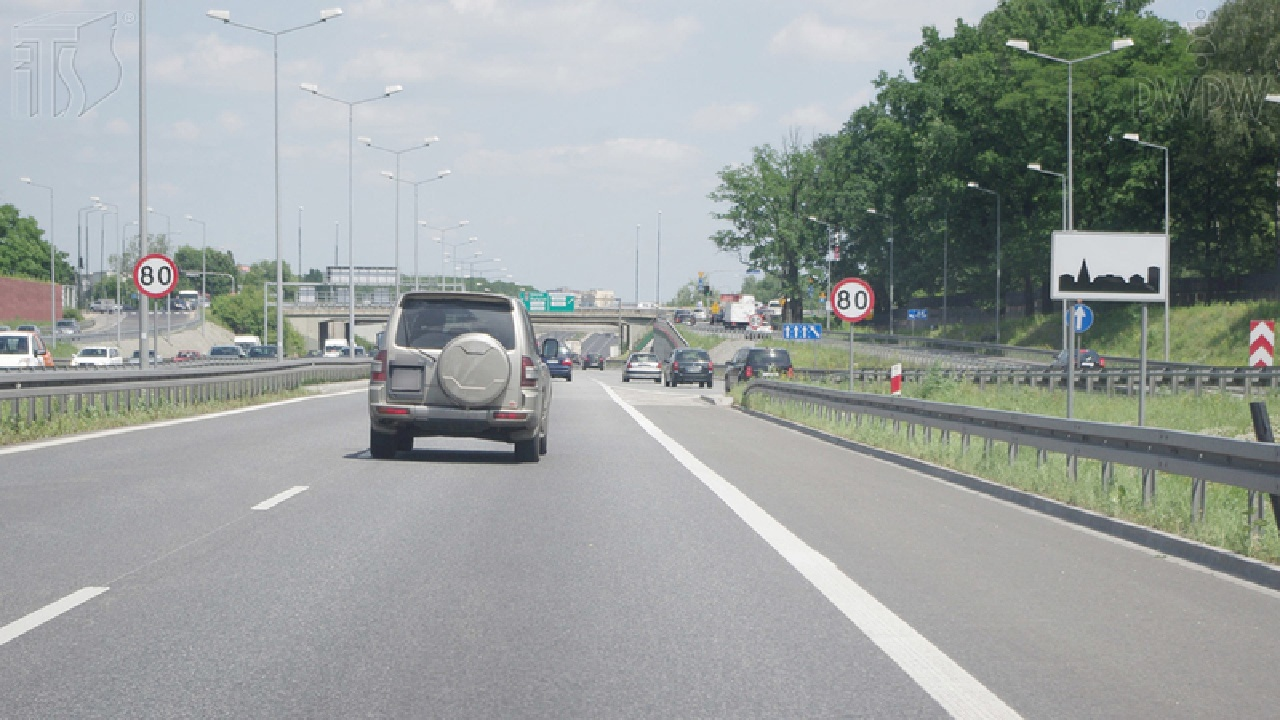B33_80: (831, 276, 875, 323)
C5: (1064, 304, 1094, 333)
D42: (1051, 229, 1172, 305)
